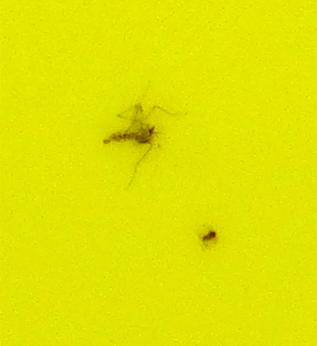Brachycera: (198, 224, 217, 246)
Nematocera: (100, 100, 159, 148)
